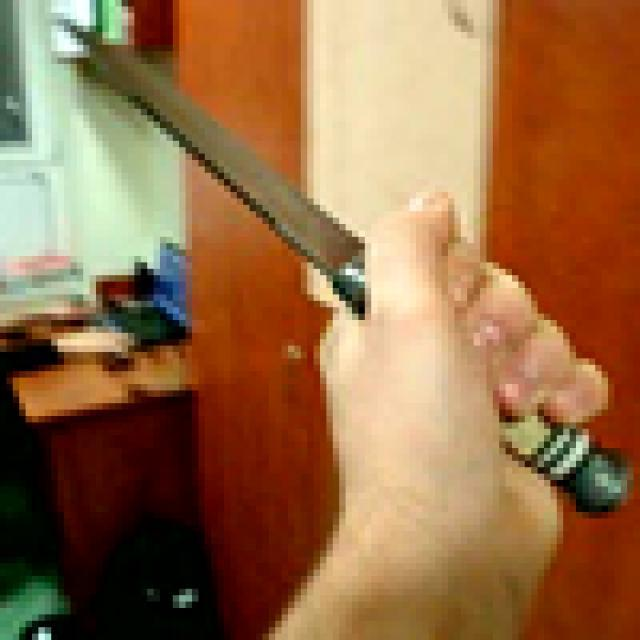Knife: (57, 19, 634, 512)
